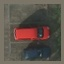car: (13, 26, 50, 39), (25, 46, 50, 60)
